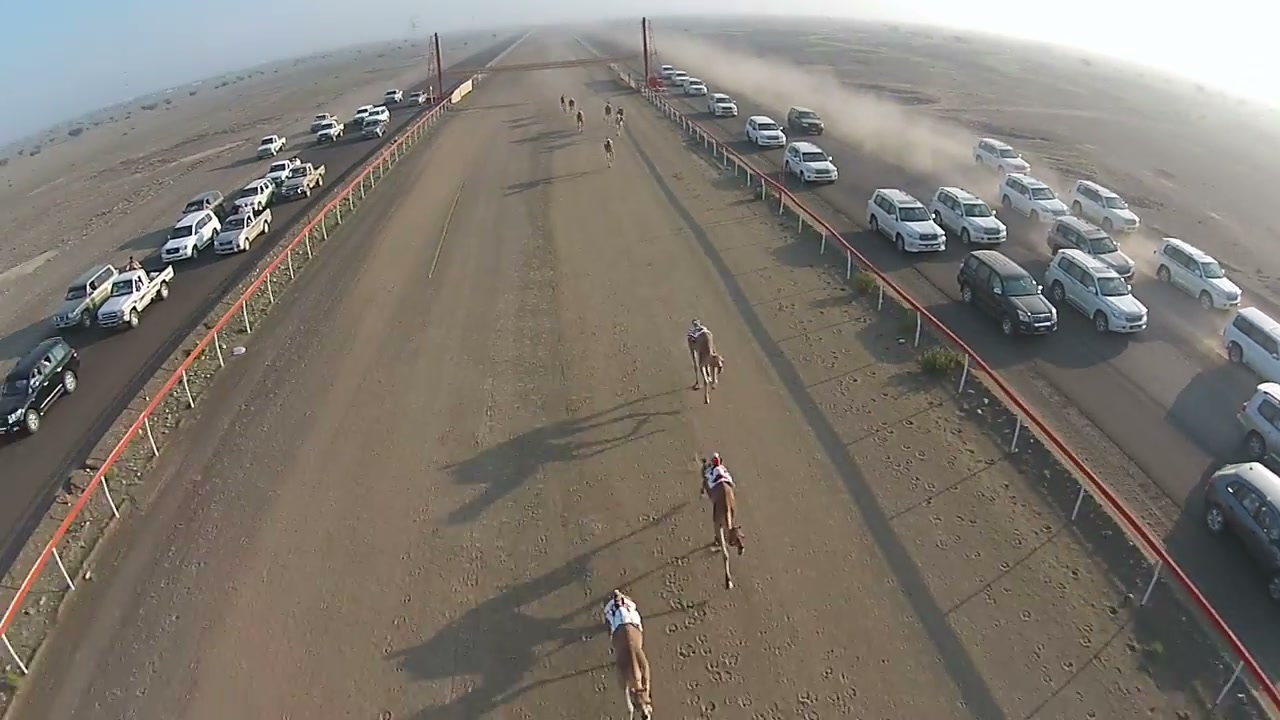animal_foot_print: (626, 493, 753, 718)
